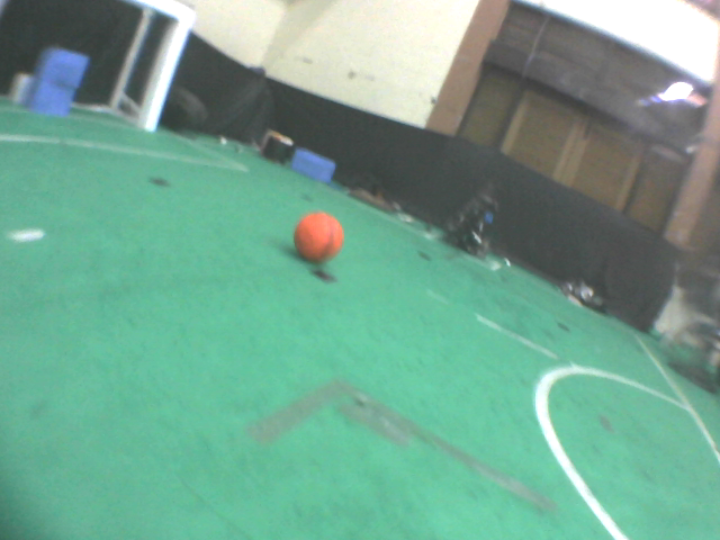bola: (287, 203, 351, 271)
